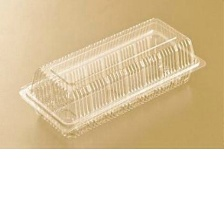plastic_box: (10, 12, 210, 147)
